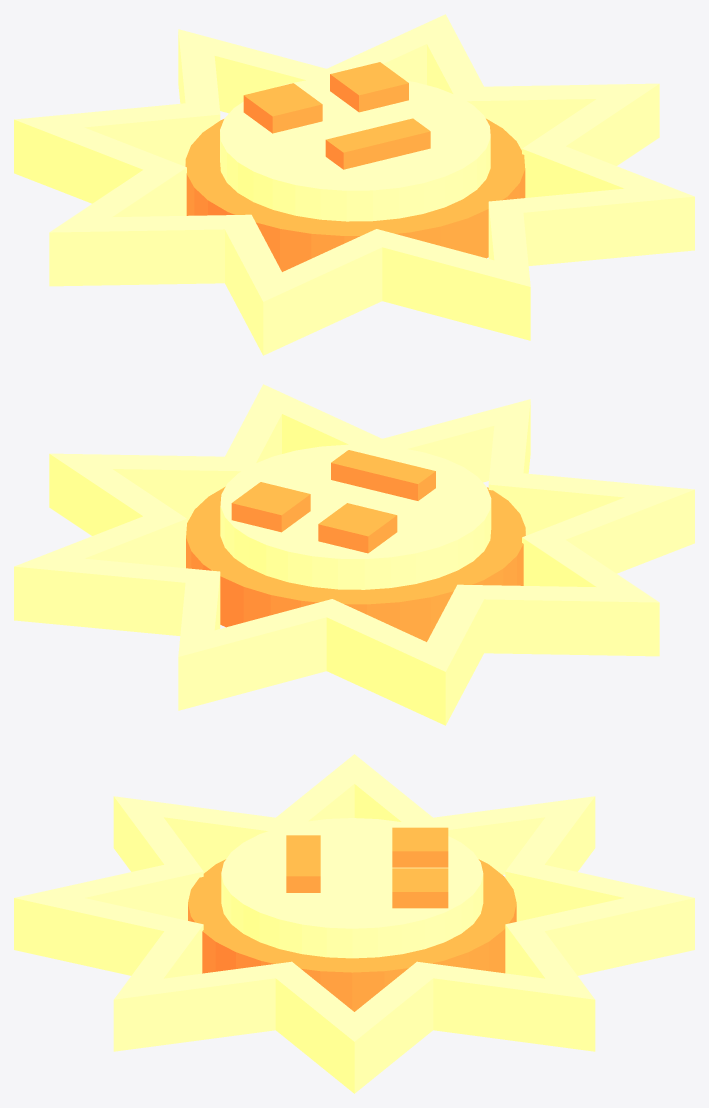
File: estrellainca.fbx
3 views of the same model, one above another, from view 1: azimuth 30°, elevation 25°; view 2: azimuth 150°, elevation 25°; view 3: azimuth 270°, elevation 25° (orthographic). The views are drawn at different scales.
Parts seen in each view (by area): view 1: Círculo, Círculo.001, Cubo.002, Cubo, Cubo.001; view 2: Círculo, Círculo.001, Cubo.002, Cubo, Cubo.001; view 3: Círculo, Círculo.001, Cubo.001, Cubo, Cubo.002.
Boxes of the visible parts, box(x1,y1,x2,y2) form: Círculo: box(14, 14, 694, 355); Círculo.001: box(185, 77, 525, 271); Cubo.002: box(325, 118, 430, 169); Cubo: box(243, 83, 322, 133); Cubo.001: box(330, 62, 408, 112); Círculo: box(14, 384, 694, 725); Círculo.001: box(186, 444, 525, 641); Cubo.002: box(331, 450, 435, 500); Cubo: box(318, 503, 397, 553); Cubo.001: box(231, 482, 310, 532); Círculo: box(14, 754, 694, 1093); Círculo.001: box(188, 818, 516, 1011); Cubo.001: box(392, 868, 448, 908); Cubo: box(392, 827, 448, 867); Cubo.002: box(286, 835, 320, 892).
Bounding box in the file's own units: 200 × 30.14 × 200.
